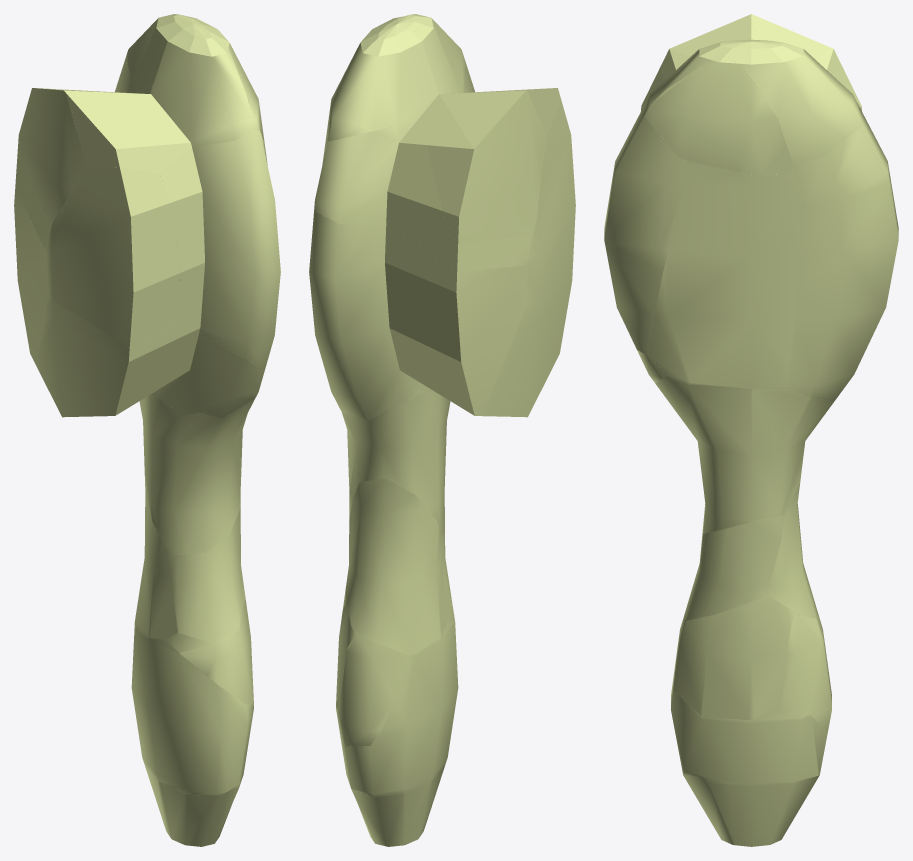
File: BrosseACheuveux.fbx
The picture shows the model from 3 angles, left to right: view 1: azimuth 30°, elevation 25°; view 2: azimuth 150°, elevation 25°; view 3: azimuth 270°, elevation 25°; orthographic projection.
Visible parts, largest first — view 1: P_BrosseACheveux_cell.012, P_BrosseACheveux_cell.001, P_BrosseACheveux_cell.006, P_BrosseACheveux_cell.018, P_BrosseACheveux_cell.013, P_BrosseACheveux_cell.017, P_BrosseACheveux_cell.008, P_BrosseACheveux_cell.007, P_BrosseACheveux_cell.019, P_BrosseACheveux_cell.016, P_BrosseACheveux_cell.005, P_BrosseACheveux_cell.011 (+4 smaller); view 2: P_BrosseACheveux_cell.005, P_BrosseACheveux_cell.016, P_BrosseACheveux_cell.007, P_BrosseACheveux_cell.002, P_BrosseACheveux_cell.013, P_BrosseACheveux_cell.010, P_BrosseACheveux_cell.017, P_BrosseACheveux_cell.006, P_BrosseACheveux_cell.001, P_BrosseACheveux_cell.014, P_BrosseACheveux_cell.018, P_BrosseACheveux_cell.011 (+1 smaller); view 3: P_BrosseACheveux_cell.015, P_BrosseACheveux_cell.005, P_BrosseACheveux_cell.017, P_BrosseACheveux_cell.012, P_BrosseACheveux_cell.019, P_BrosseACheveux_cell.004, P_BrosseACheveux_cell.013, P_BrosseACheveux_cell.010, P_BrosseACheveux_cell.008, P_BrosseACheveux_cell.002, P_BrosseACheveux_cell.011, P_BrosseACheveux_cell.016 (+5 smaller).
Part boxes in pixels (<box>): P_BrosseACheveux_cell.012: <box>160,129,280,370</box>; P_BrosseACheveux_cell.001: <box>46,167,180,347</box>; P_BrosseACheveux_cell.006: <box>34,293,264,418</box>; P_BrosseACheveux_cell.018: <box>67,31,253,174</box>; P_BrosseACheveux_cell.013: <box>131,628,253,796</box>; P_BrosseACheveux_cell.017: <box>139,394,254,554</box>; P_BrosseACheveux_cell.008: <box>165,508,245,643</box>; P_BrosseACheveux_cell.007: <box>17,88,119,230</box>; P_BrosseACheveux_cell.019: <box>165,598,253,704</box>; P_BrosseACheveux_cell.016: <box>134,474,177,639</box>; P_BrosseACheveux_cell.005: <box>14,186,48,361</box>; P_BrosseACheveux_cell.011: <box>145,765,220,846</box>; P_BrosseACheveux_cell.005: <box>309,211,527,420</box>; P_BrosseACheveux_cell.016: <box>345,478,451,656</box>; P_BrosseACheveux_cell.007: <box>427,90,546,246</box>; P_BrosseACheveux_cell.002: <box>314,116,531,271</box>; P_BrosseACheveux_cell.013: <box>336,620,458,796</box>; P_BrosseACheveux_cell.010: <box>325,17,449,142</box>; P_BrosseACheveux_cell.017: <box>342,390,450,535</box>; P_BrosseACheveux_cell.006: <box>417,265,572,417</box>; P_BrosseACheveux_cell.001: <box>527,101,575,303</box>; P_BrosseACheveux_cell.014: <box>338,634,413,746</box>; P_BrosseACheveux_cell.018: <box>399,14,561,134</box>; P_BrosseACheveux_cell.011: <box>346,765,444,846</box>; P_BrosseACheveux_cell.015: <box>648,163,805,389</box>; P_BrosseACheveux_cell.005: <box>788,178,898,401</box>; P_BrosseACheveux_cell.017: <box>655,375,833,533</box>; P_BrosseACheveux_cell.012: <box>604,107,689,355</box>; P_BrosseACheveux_cell.019: <box>673,595,793,720</box>; P_BrosseACheveux_cell.004: <box>645,55,793,174</box>; P_BrosseACheveux_cell.013: <box>671,655,827,783</box>; P_BrosseACheveux_cell.010: <box>724,39,862,165</box>; P_BrosseACheveux_cell.008: <box>684,513,785,620</box>; P_BrosseACheveux_cell.002: <box>787,103,890,206</box>; P_BrosseACheveux_cell.011: <box>728,775,819,846</box>; P_BrosseACheveux_cell.016: <box>767,484,818,620</box>.
Size of the model in its own units: 3639 by 15313 by 5087.
